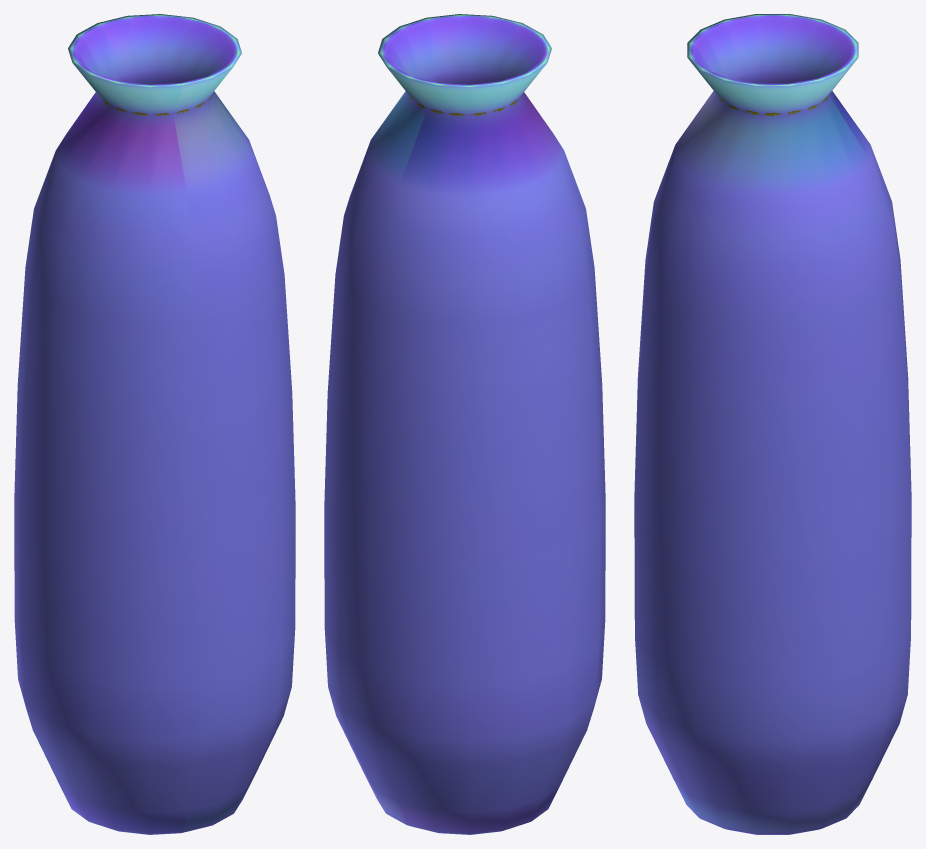
Rendered from Vase05.fbx.
3 views of the same model, side by side, from view 1: azimuth 30°, elevation 25°; view 2: azimuth 150°, elevation 25°; view 3: azimuth 270°, elevation 25° (orthographic).
Visible parts, largest first — view 1: Vase05_LOD0; view 2: Vase05_LOD0; view 3: Vase05_LOD0.
Part boxes in pixels (<box>): Vase05_LOD0: <box>14,14,295,834</box>; Vase05_LOD0: <box>324,14,605,834</box>; Vase05_LOD0: <box>634,14,911,834</box>.
Size of what is drawn, in the model's own units: 14.09 by 42.13 by 14.09.
